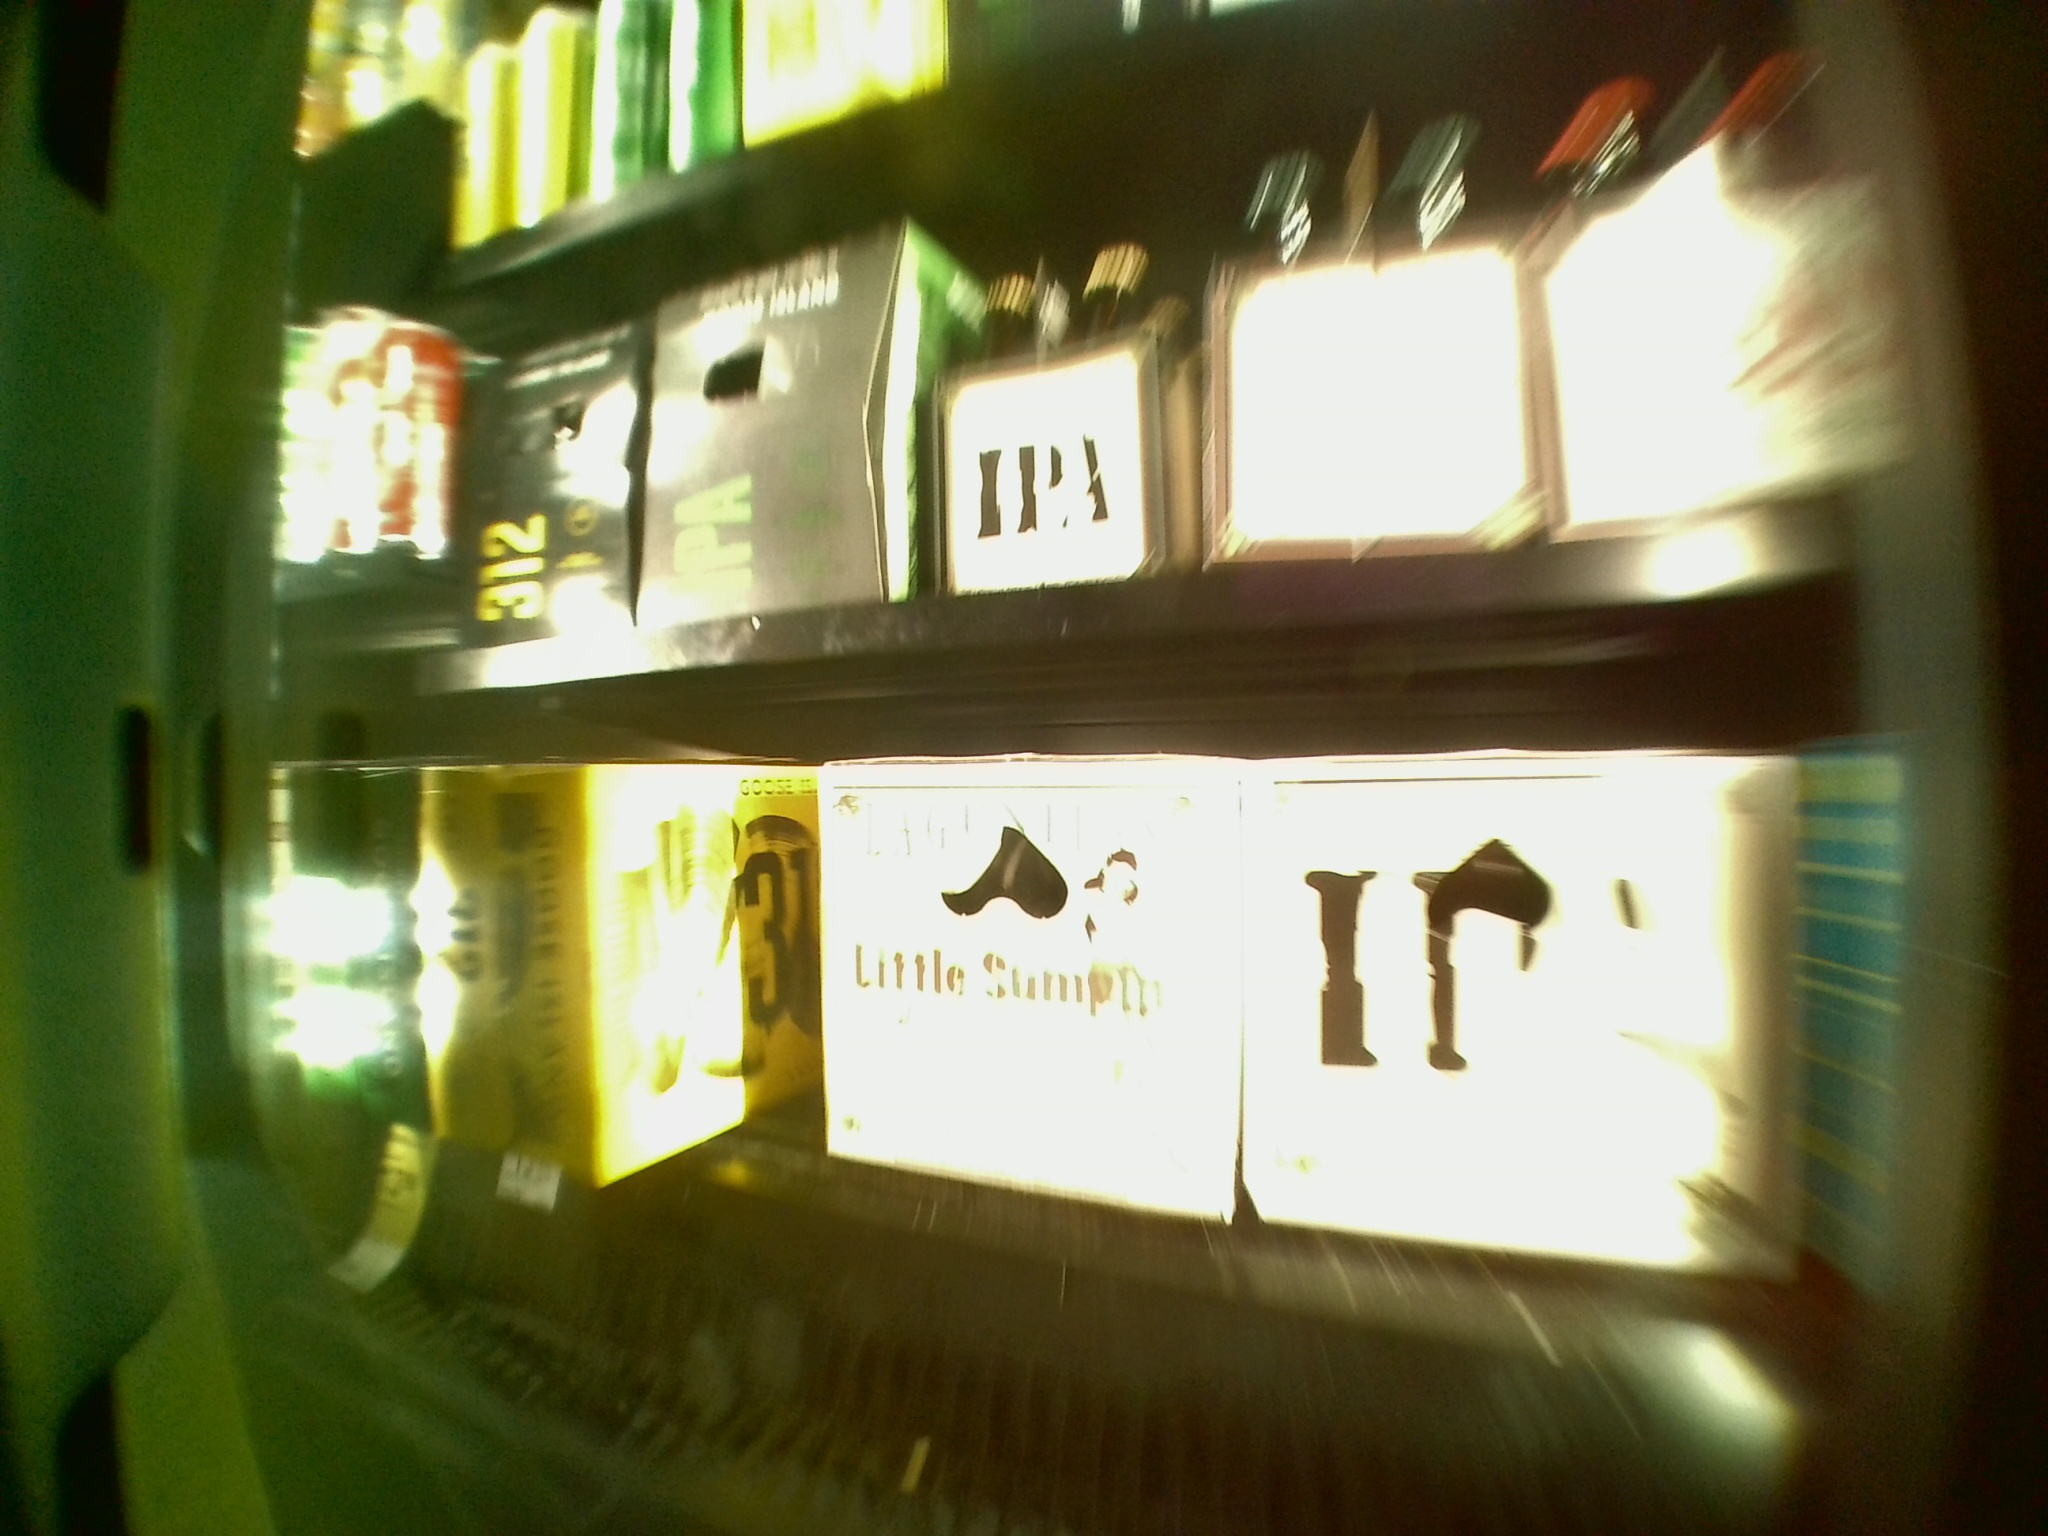shelf: (348, 682, 1804, 1434)
